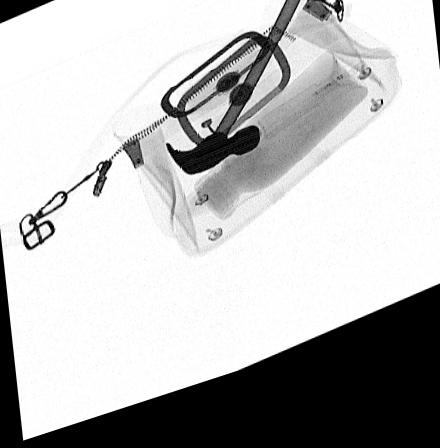Hammer: (163, 0, 308, 187)
